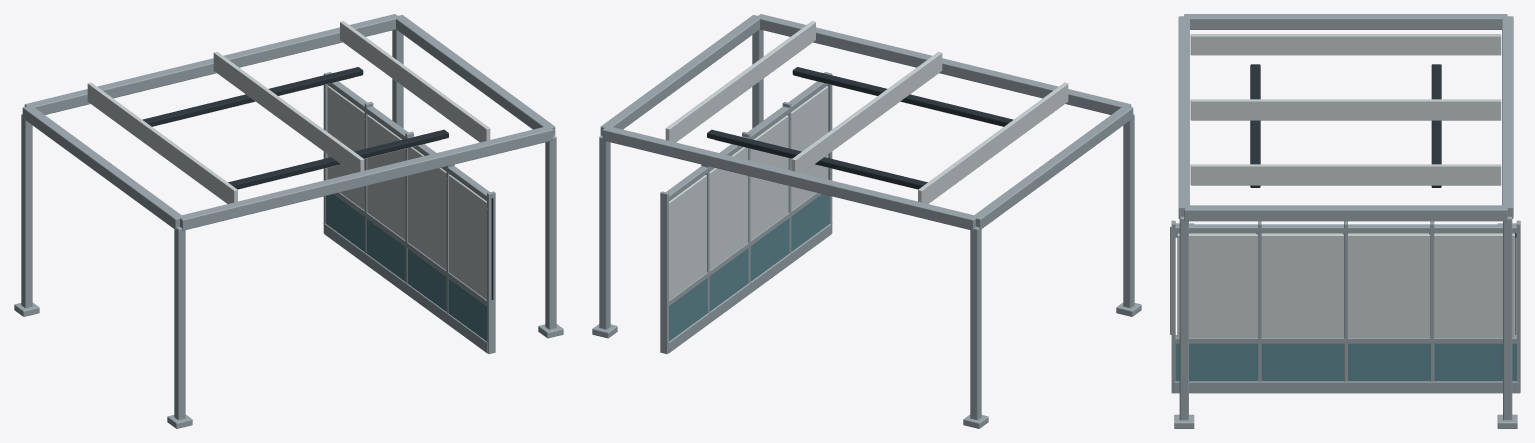
Rendered from SF_C04_Interior.fbx.
3 renders of one model, left to right at view 1: azimuth 30°, elevation 25°; view 2: azimuth 150°, elevation 25°; view 3: azimuth 270°, elevation 25°, orthographic. The views are drawn at different scales.
Parts seen in each view (by area): view 1: SF_C04_Interior; view 2: SF_C04_Interior; view 3: SF_C04_Interior.
Boxes of the visible parts, x1,y1,x2,y2 form: SF_C04_Interior: (14,14,563,428); SF_C04_Interior: (592,14,1141,428); SF_C04_Interior: (1170,14,1520,428).
Size of the model in its own units: 658 by 352 by 487.
